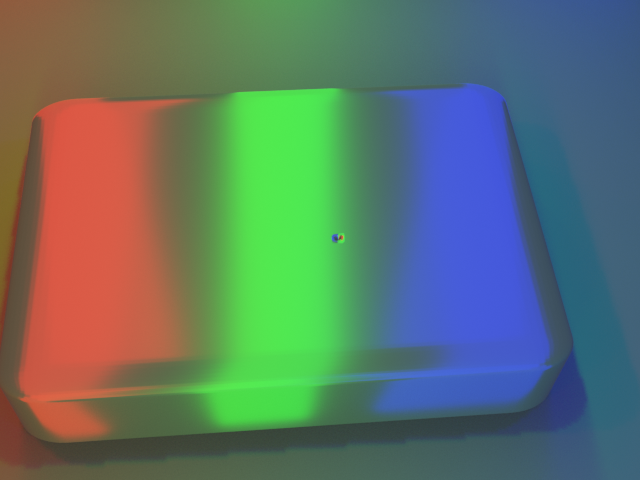dent: (320, 219, 354, 260)
